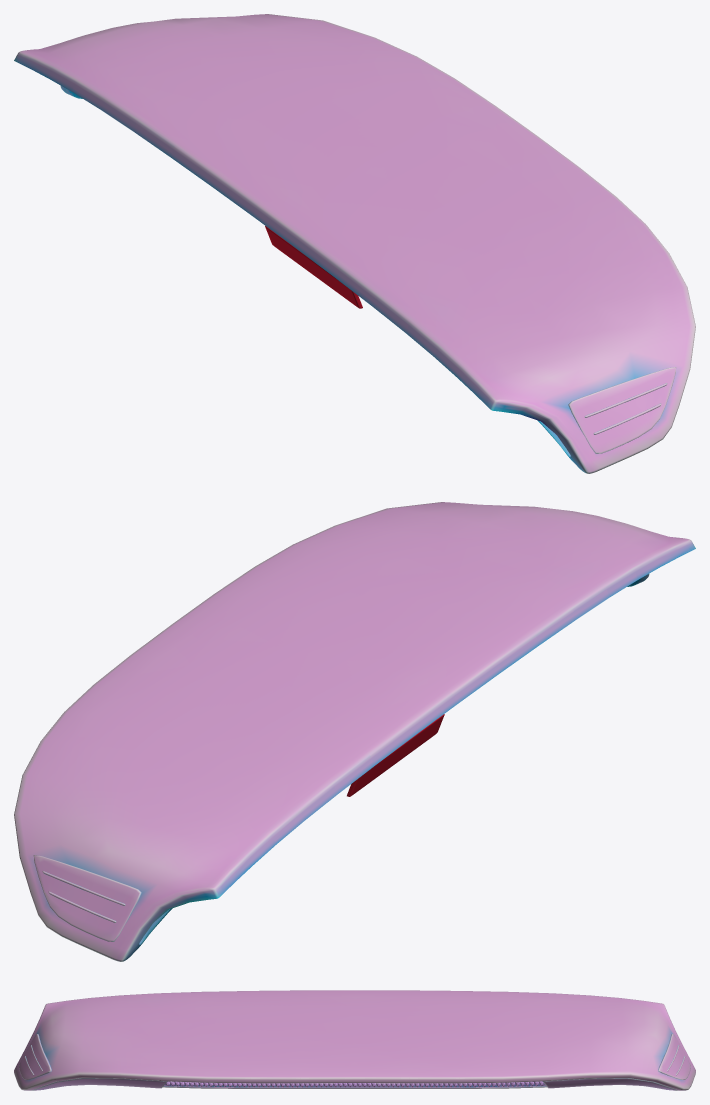
File: spoiler.glb
The picture shows the model from 3 angles, top to bottom: view 1: azimuth 30°, elevation 25°; view 2: azimuth 150°, elevation 25°; view 3: azimuth 270°, elevation 25°; orthographic projection. The views are drawn at different scales.
Parts seen in each view (by area): view 1: carpaint_6, carpaint_7, redglass_25; view 2: carpaint_6, carpaint_7, redglass_25; view 3: carpaint_6, chrome_4, carpaint_7, clearglass_33.
Boxes of the visible parts, x1,y1,x2,y2 form: carpaint_6: (14,14,695,473); carpaint_7: (568,367,676,453); redglass_25: (265,226,362,308); carpaint_6: (14,502,695,961); carpaint_7: (33,855,141,941); redglass_25: (347,714,444,796); carpaint_6: (14,990,695,1090); chrome_4: (32,1078,677,1090); carpaint_7: (19,1034,690,1079); clearglass_33: (165,1081,543,1087).
Bounding box in the file's own units: 0.4001 × 0.1344 × 1.28.
